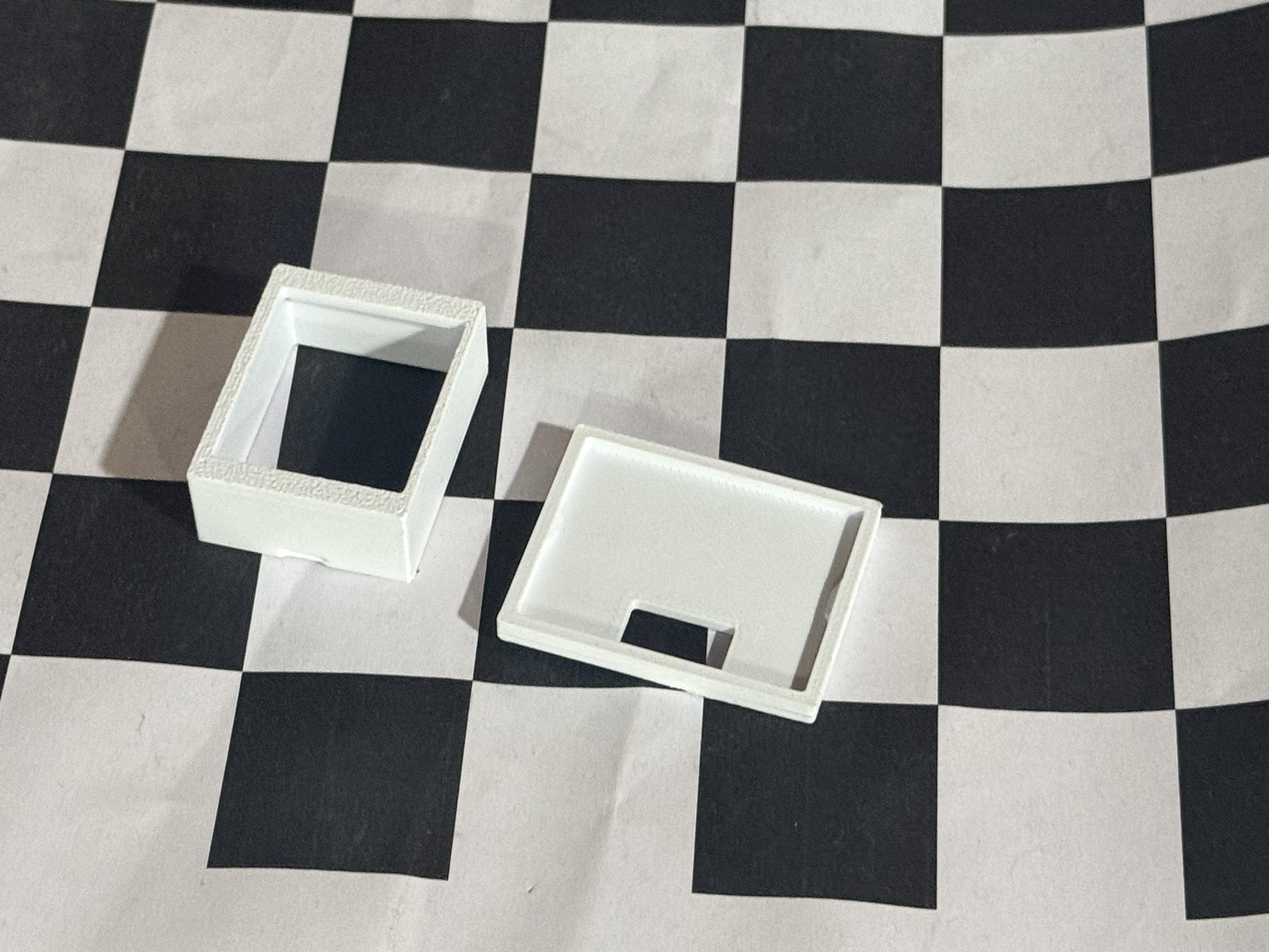enclosure: (496, 425, 883, 724), (187, 263, 489, 585)
